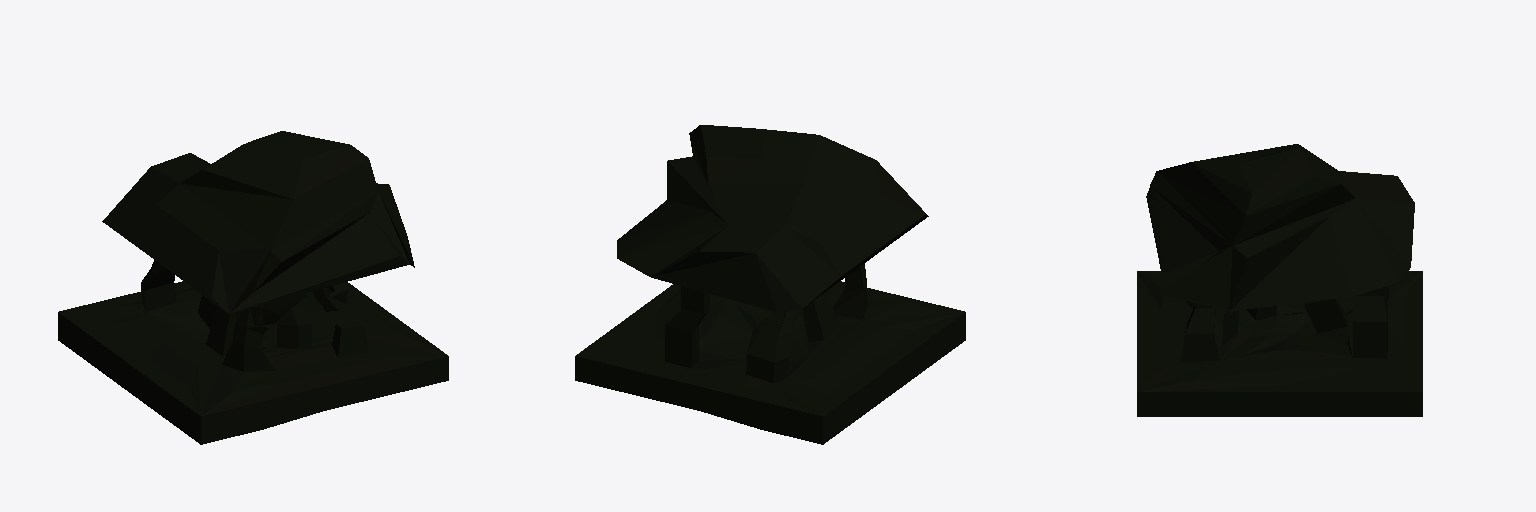
Rendered from Forest2.obj.
3 renders of one model, left to right at view 1: azimuth 30°, elevation 25°; view 2: azimuth 150°, elevation 25°; view 3: azimuth 270°, elevation 25°, orthographic.
Visible parts, largest first — view 1: Cube; view 2: Cube; view 3: Cube.
Part boxes in pixels (bbox=[...]): Cube: bbox=[58, 131, 448, 444]; Cube: bbox=[575, 125, 965, 444]; Cube: bbox=[1137, 144, 1422, 416].
Size of the model in its own units: 2.04 by 1.63 by 2.